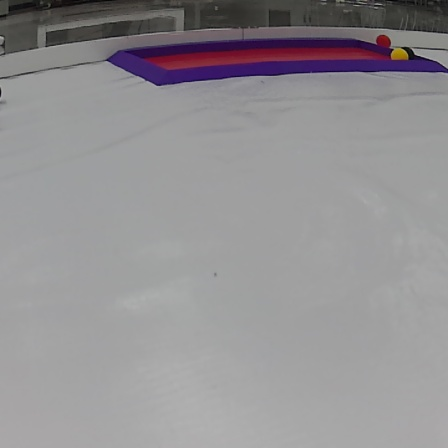black: (405, 45, 417, 59)
red: (376, 30, 393, 47)
red_aim: (97, 35, 446, 87)
yellow: (386, 48, 410, 64)
